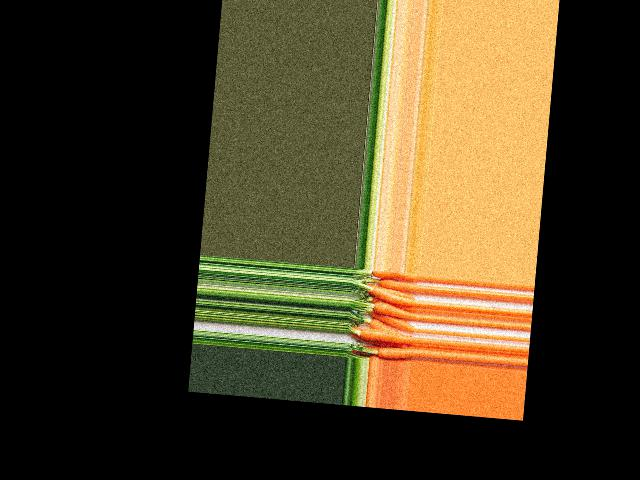carrot: (370, 345, 414, 362)
